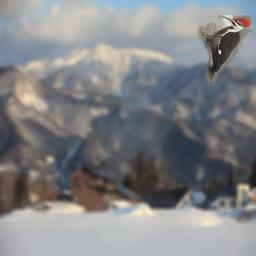Woodpecker: (198, 15, 252, 86)
